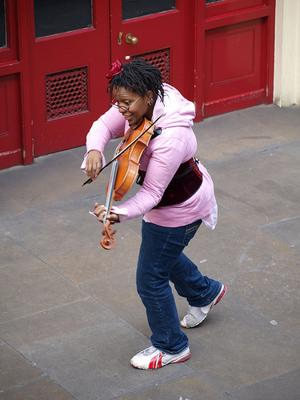person: (86, 57, 226, 372)
